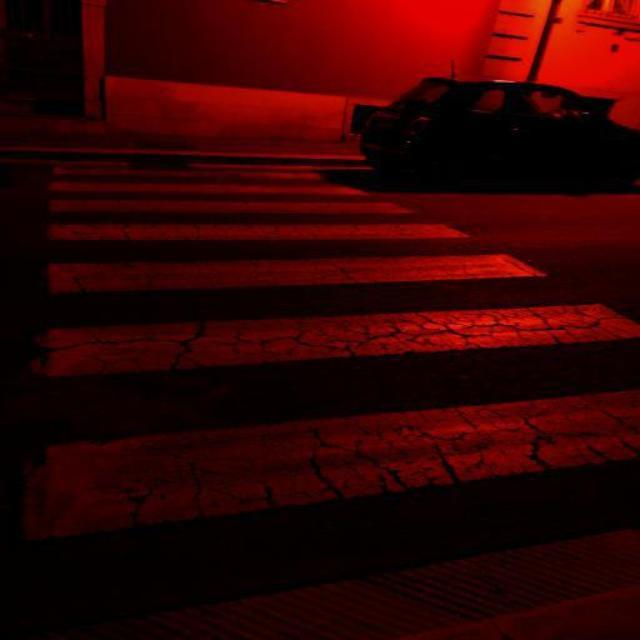sidewalk: (24, 146, 640, 640)
